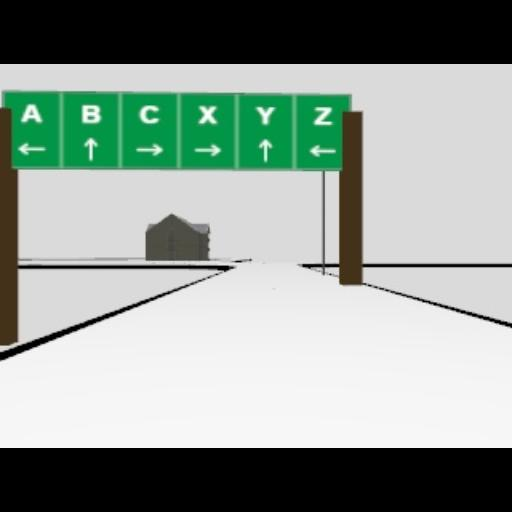A: (20, 102, 42, 124)
B: (80, 104, 100, 124)
C: (140, 104, 158, 124)
Left: (16, 142, 46, 156), (308, 144, 336, 156)
Right: (134, 142, 164, 156), (194, 144, 222, 156)
Straight: (258, 138, 272, 162), (83, 136, 97, 160)
X: (196, 104, 218, 124)
Y: (254, 104, 276, 124)
Z: (312, 106, 332, 124)
